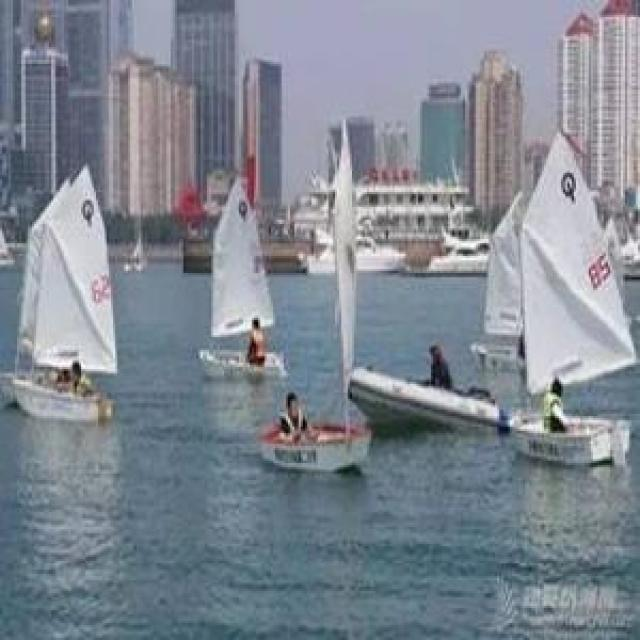houseboat: (346, 346, 504, 432)
sailboat: (261, 110, 380, 475), (512, 124, 635, 466), (3, 156, 124, 424), (193, 178, 291, 378), (468, 190, 524, 371)
